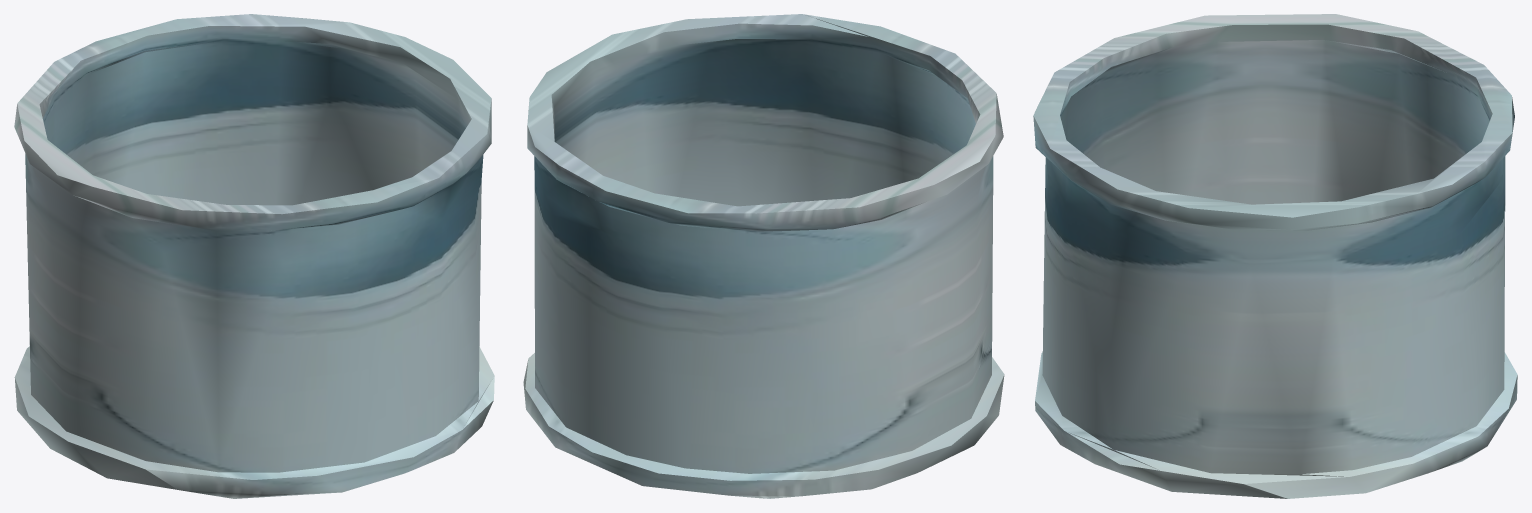
3 renders of one model, left to right at view 1: azimuth 30°, elevation 25°; view 2: azimuth 150°, elevation 25°; view 3: azimuth 270°, elevation 25°, orthographic.
Visible parts, largest first — view 1: Decor_chicken_feeder; view 2: Decor_chicken_feeder; view 3: Decor_chicken_feeder.
Boxes of the visible parts, x1,y1,x2,y2 form: Decor_chicken_feeder: (14,14,494,498); Decor_chicken_feeder: (523,14,1004,498); Decor_chicken_feeder: (1033,14,1517,498).
Size of the model in its own units: 0.7503 by 0.4978 by 0.7502.
Materials: 1 (1 with a texture image).
